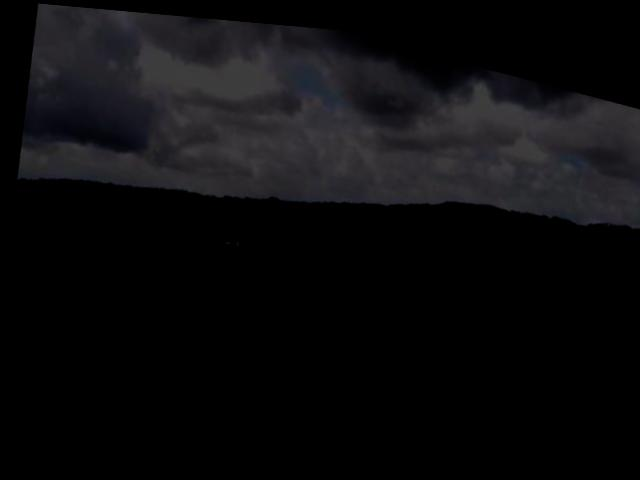iha: (208, 230, 241, 250)
